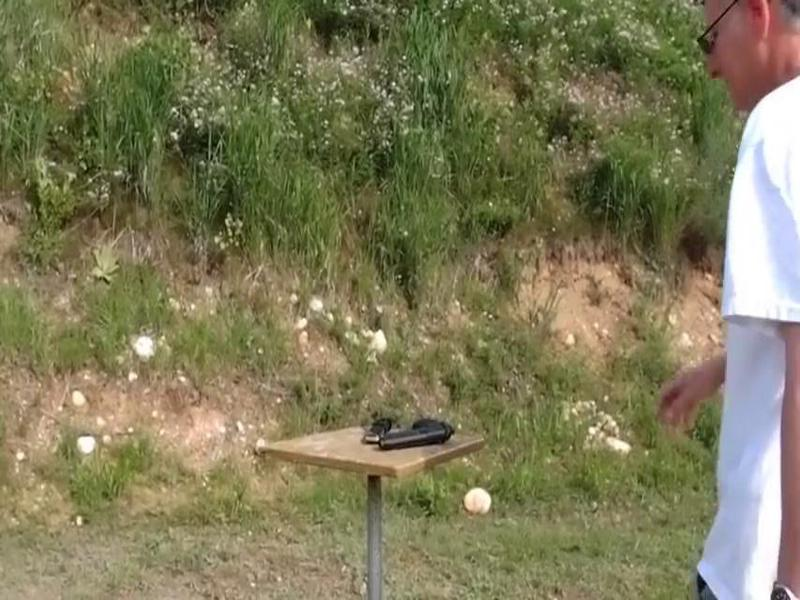Pistola: (365, 403, 467, 466)
